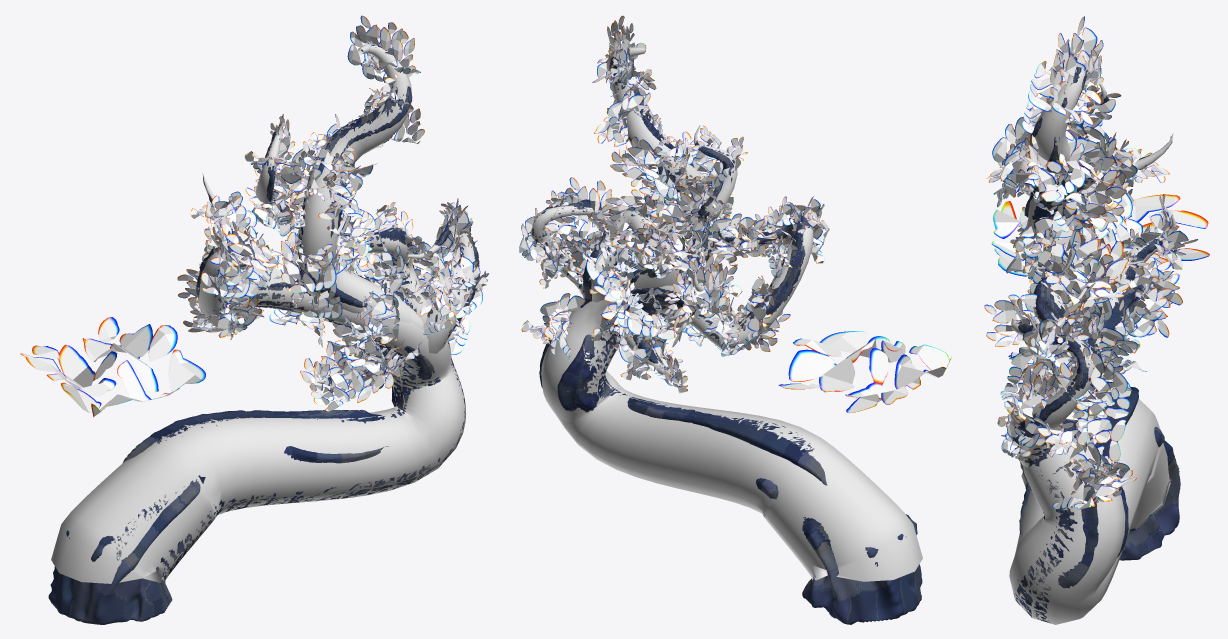
The model's file is TreeVF.fbx.
The picture shows the model from 3 angles, left to right: view 1: azimuth 30°, elevation 25°; view 2: azimuth 150°, elevation 25°; view 3: azimuth 270°, elevation 25°; orthographic projection. The views are drawn at different scales.
Parts seen in each view (by area): view 1: BézierCurve.001, Arbre, leavesabberant, Arbre|leavesabberant|Dupli|90, Arbre|leavesabberant|Dupli|31, Arbre|leavesabberant|Dupli|5, Arbre|leavesabberant|Dupli|221, Arbre|leavesabberant|Dupli|176, Arbre|leavesabberant|Dupli|108, Arbre|leavesabberant|Dupli|216, Arbre|leavesabberant|Dupli|10, Arbre|leavesabberant|Dupli|167 (+8 smaller); view 2: BézierCurve.001, Arbre, leavesabberant, Arbre|leavesabberant|Dupli|167, Arbre|leavesabberant|Dupli|256, Arbre|leavesabberant|Dupli|285, Arbre|leavesabberant|Dupli|238, Arbre|leavesabberant|Dupli|207, Arbre|leavesabberant|Dupli|227, Arbre|leavesabberant|Dupli|221, Arbre|leavesabberant|Dupli|258, Arbre|leavesabberant|Dupli|184 (+8 smaller); view 3: BézierCurve.001, Arbre, leavesabberant, Arbre|leavesabberant|Dupli|211, Arbre|leavesabberant|Dupli|223, Arbre|leavesabberant|Dupli|285, Arbre|leavesabberant|Dupli|149, Arbre|leavesabberant|Dupli|215, Arbre|leavesabberant|Dupli|99, Arbre|leavesabberant|Dupli|221, Arbre|leavesabberant|Dupli|138, Arbre|leavesabberant|Dupli|131 (+47 smaller).
Boxes of the visible parts, x1=… form: BézierCurve.001: x1=51, y1=44, x2=475, y2=583; Arbre: x1=48, y1=44, x2=480, y2=624; leavesabberant: x1=20, y1=317, x2=205, y2=416; Arbre|leavesabberant|Dupli|90: x1=300, y1=341, x2=364, y2=411; Arbre|leavesabberant|Dupli|31: x1=281, y1=232, x2=336, y2=293; Arbre|leavesabberant|Dupli|5: x1=210, y1=230, x2=276, y2=296; Arbre|leavesabberant|Dupli|221: x1=347, y1=15, x2=402, y2=69; Arbre|leavesabberant|Dupli|176: x1=437, y1=246, x2=482, y2=318; Arbre|leavesabberant|Dupli|108: x1=329, y1=338, x2=400, y2=402; Arbre|leavesabberant|Dupli|216: x1=362, y1=26, x2=415, y2=82; Arbre|leavesabberant|Dupli|10: x1=183, y1=309, x2=249, y2=337; Arbre|leavesabberant|Dupli|167: x1=426, y1=206, x2=471, y2=264; BézierCurve.001: x1=530, y1=47, x2=922, y2=581; Arbre: x1=530, y1=51, x2=922, y2=624; leavesabberant: x1=778, y1=331, x2=951, y2=413; Arbre|leavesabberant|Dupli|167: x1=558, y1=177, x2=611, y2=239; Arbre|leavesabberant|Dupli|256: x1=683, y1=260, x2=726, y2=313; Arbre|leavesabberant|Dupli|285: x1=610, y1=136, x2=662, y2=187; Arbre|leavesabberant|Dupli|238: x1=712, y1=213, x2=768, y2=260; Arbre|leavesabberant|Dupli|207: x1=607, y1=92, x2=658, y2=142; Arbre|leavesabberant|Dupli|227: x1=743, y1=275, x2=774, y2=331; Arbre|leavesabberant|Dupli|221: x1=608, y1=15, x2=634, y2=79; Arbre|leavesabberant|Dupli|258: x1=672, y1=259, x2=720, y2=317; Arbre|leavesabberant|Dupli|184: x1=545, y1=190, x2=588, y2=241; BézierCurve.001: x1=1009, y1=46, x2=1176, y2=624; Arbre: x1=1012, y1=56, x2=1180, y2=623; leavesabberant: x1=991, y1=194, x2=1209, y2=276; Arbre|leavesabberant|Dupli|211: x1=1028, y1=131, x2=1085, y2=201; Arbre|leavesabberant|Dupli|223: x1=1057, y1=346, x2=1127, y2=414; Arbre|leavesabberant|Dupli|285: x1=1078, y1=138, x2=1126, y2=215; Arbre|leavesabberant|Dupli|149: x1=984, y1=294, x2=1039, y2=346; Arbre|leavesabberant|Dupli|215: x1=1028, y1=61, x2=1101, y2=125; Arbre|leavesabberant|Dupli|99: x1=1050, y1=220, x2=1128, y2=313; Arbre|leavesabberant|Dupli|221: x1=1056, y1=16, x2=1103, y2=99; Arbre|leavesabberant|Dupli|138: x1=1087, y1=379, x2=1131, y2=442; Arbre|leavesabberant|Dupli|131: x1=1029, y1=250, x2=1080, y2=317.
Bounding box in the file's own units: 279 × 329 × 102.
